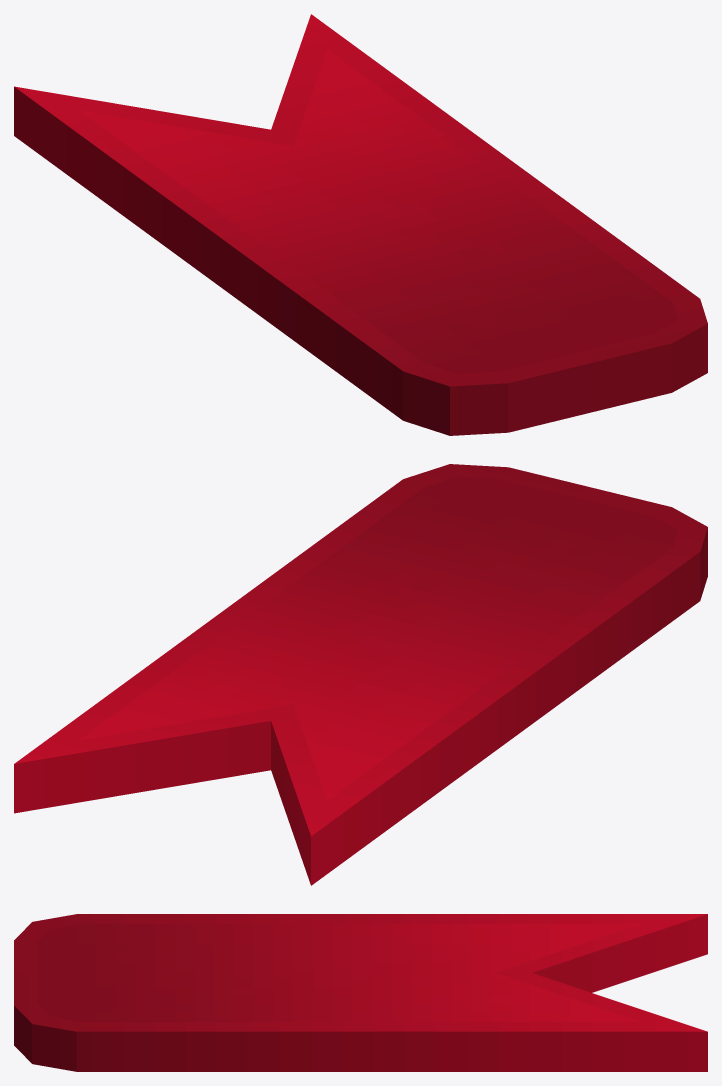
The model's file is HCBookmarked.fbx.
The picture shows the model from 3 angles, top to bottom: view 1: azimuth 30°, elevation 25°; view 2: azimuth 150°, elevation 25°; view 3: azimuth 270°, elevation 25°; orthographic projection. The views are drawn at different scales.
Visible parts, largest first — view 1: Cube.233; view 2: Cube.233; view 3: Cube.233.
Part boxes in pixels (x1=…): Cube.233: x1=14, y1=14, x2=707, y2=435; Cube.233: x1=14, y1=464, x2=707, y2=885; Cube.233: x1=14, y1=914, x2=707, y2=1071.
Bounding box in the file's own units: 0.0447 × 0.00711 × 0.1114.
